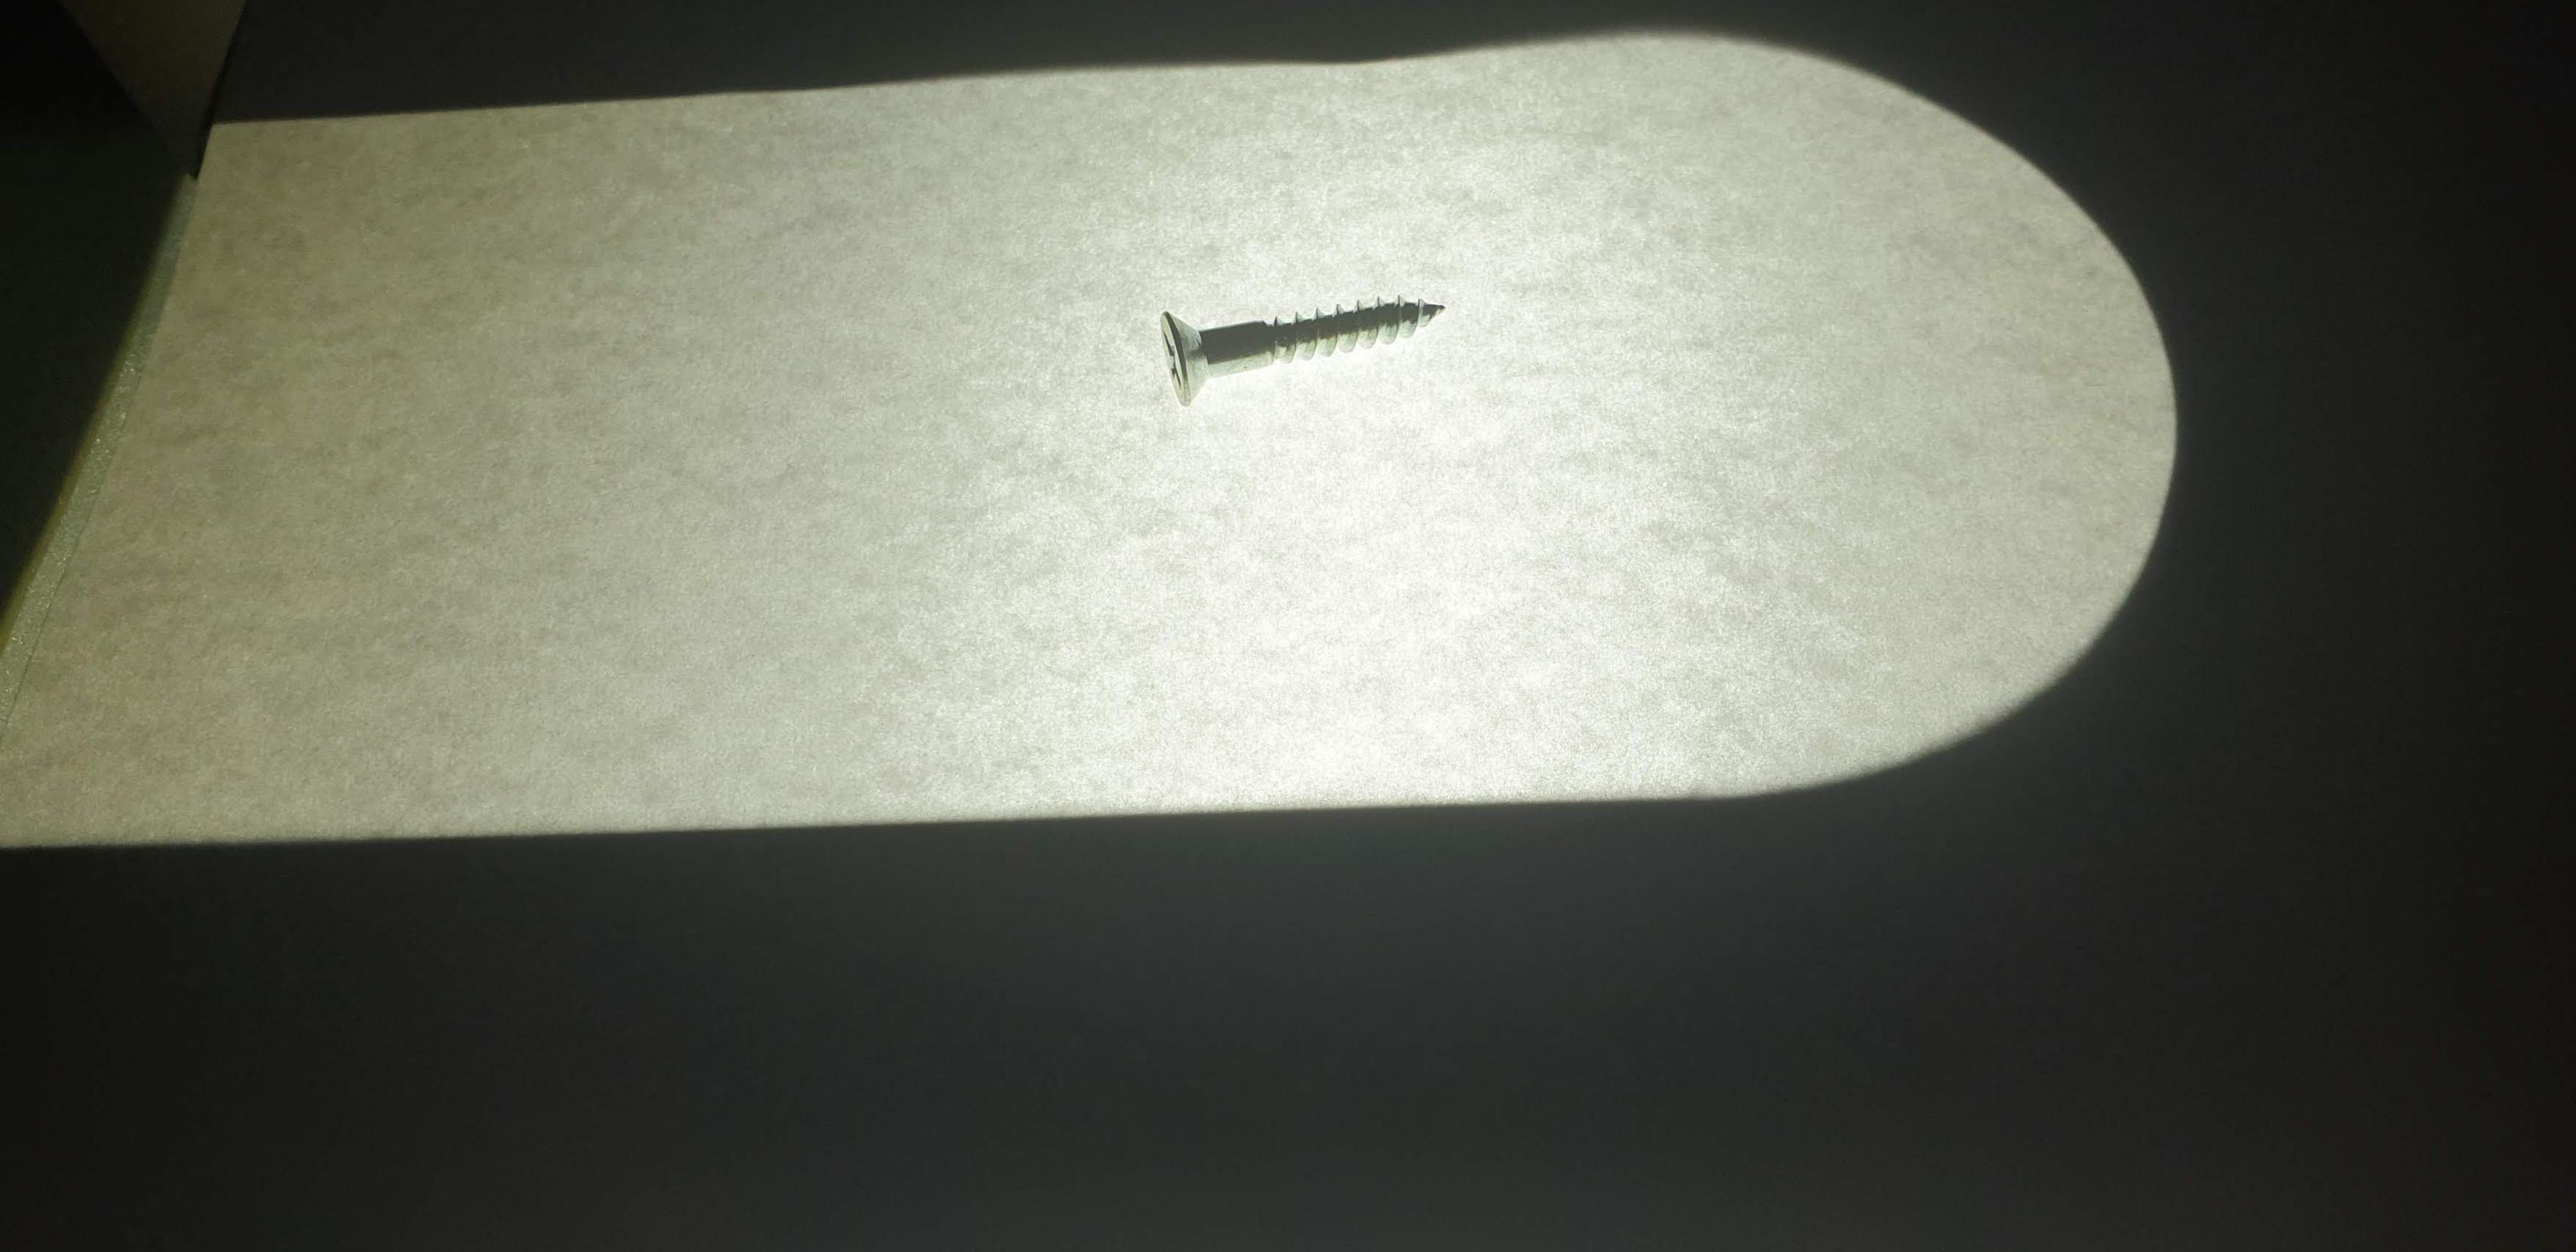S005: (1111, 260, 1497, 409)
